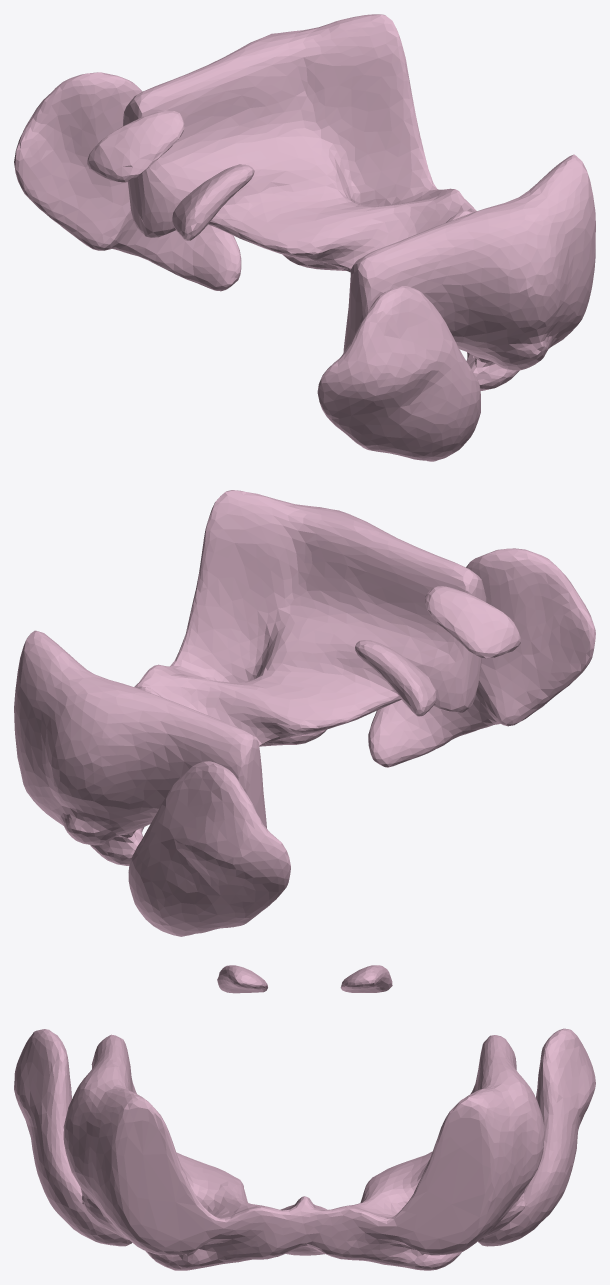
3 views of the same model, one above another, from view 1: azimuth 30°, elevation 25°; view 2: azimuth 150°, elevation 25°; view 3: azimuth 270°, elevation 25° (orthographic). The views are drawn at different scales.
Visible parts, largest first — view 1: 386.obj; view 2: 386.obj; view 3: 386.obj.
Boxes of the visible parts, box(x1,y1,x2,y2) form: 386.obj: box(14, 14, 595, 461); 386.obj: box(14, 490, 595, 936); 386.obj: box(14, 965, 595, 1270).
Bounding box in the file's own units: 3639 × 2563 × 6073.
